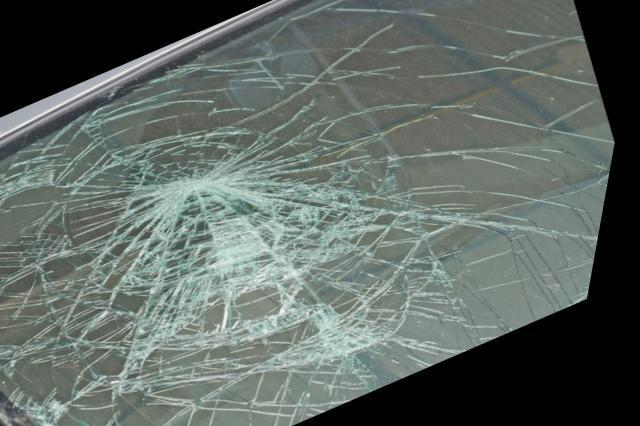glass shatter: (0, 0, 620, 426)
